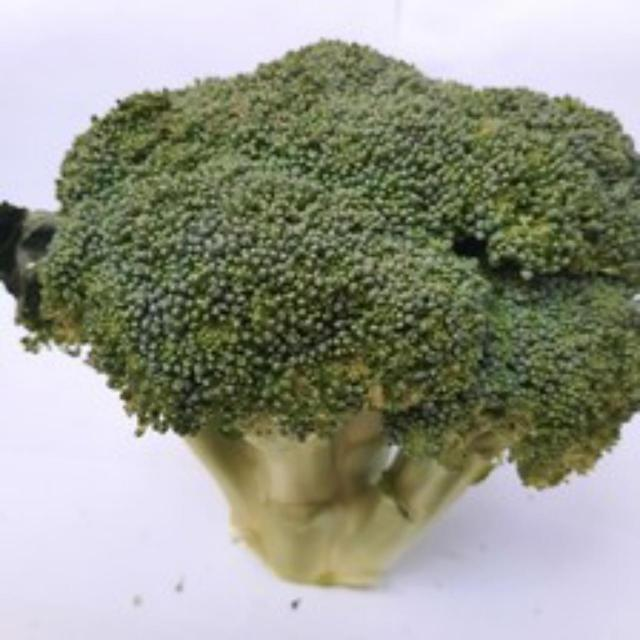broccoli: (33, 38, 640, 623)
